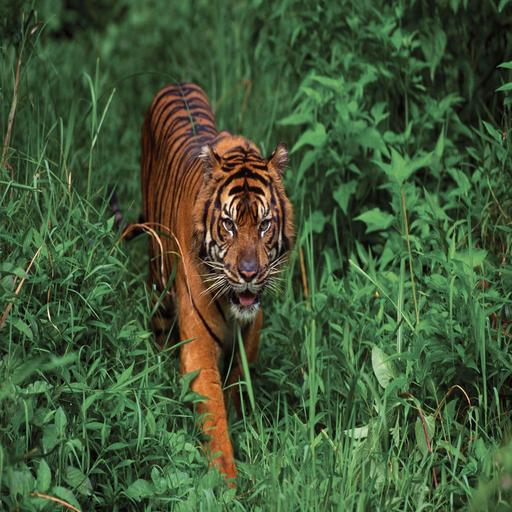Tiger: (99, 70, 315, 512)
